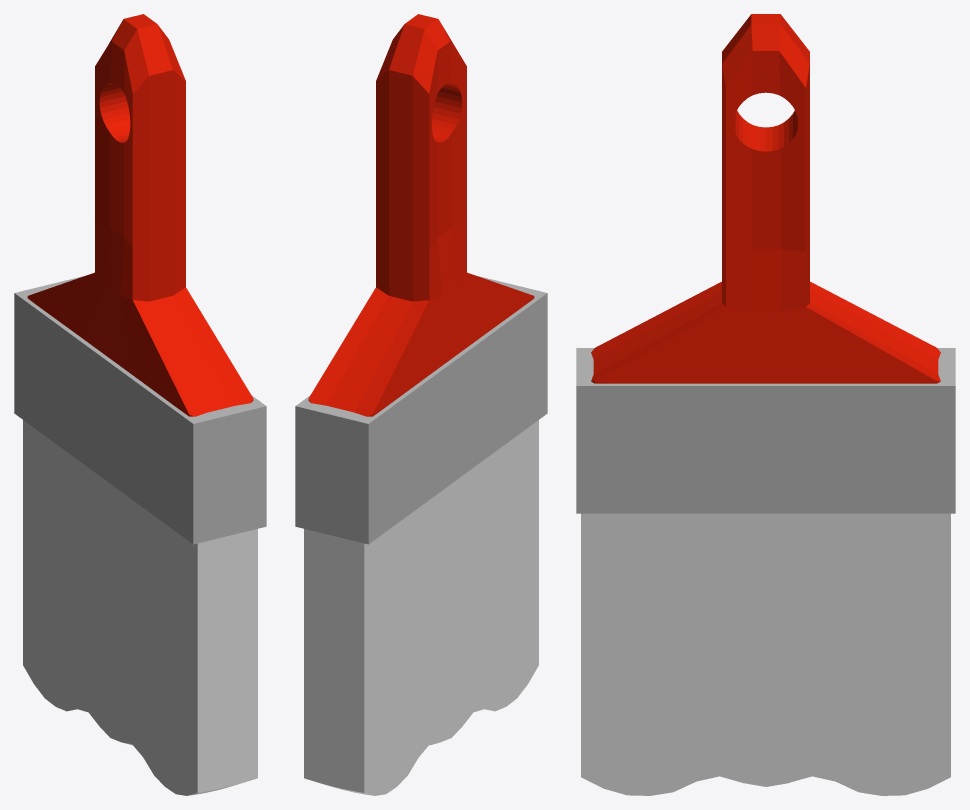
File: brush 1.fbx
The picture shows the model from 3 angles, left to right: view 1: azimuth 30°, elevation 25°; view 2: azimuth 150°, elevation 25°; view 3: azimuth 270°, elevation 25°; orthographic projection. The views are drawn at different scales.
Parts seen in each view (by area): view 1: Cube.002; view 2: Cube.002; view 3: Cube.002.
Part boxes in pixels (<box>): Cube.002: <box>14,14,266,795</box>; Cube.002: <box>295,14,547,795</box>; Cube.002: <box>576,14,955,795</box>.
Size of the model in its own units: 202 by 1891 by 854.
